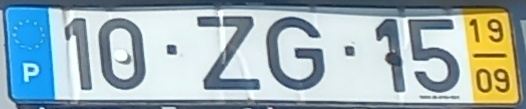0: (96, 15, 148, 92)
1: (373, 16, 407, 94), (62, 16, 93, 91)
5: (406, 17, 462, 95)
G: (264, 14, 326, 93)
Z: (195, 14, 263, 92)
